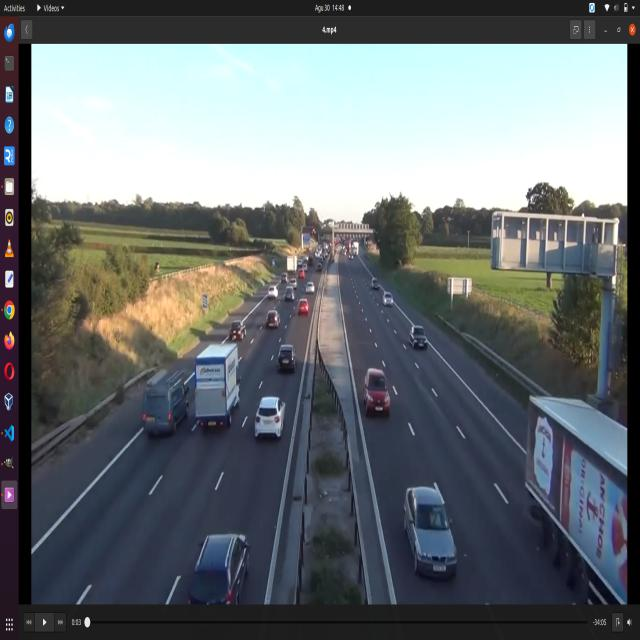person_with_seatbelt: (424, 496, 446, 530)
